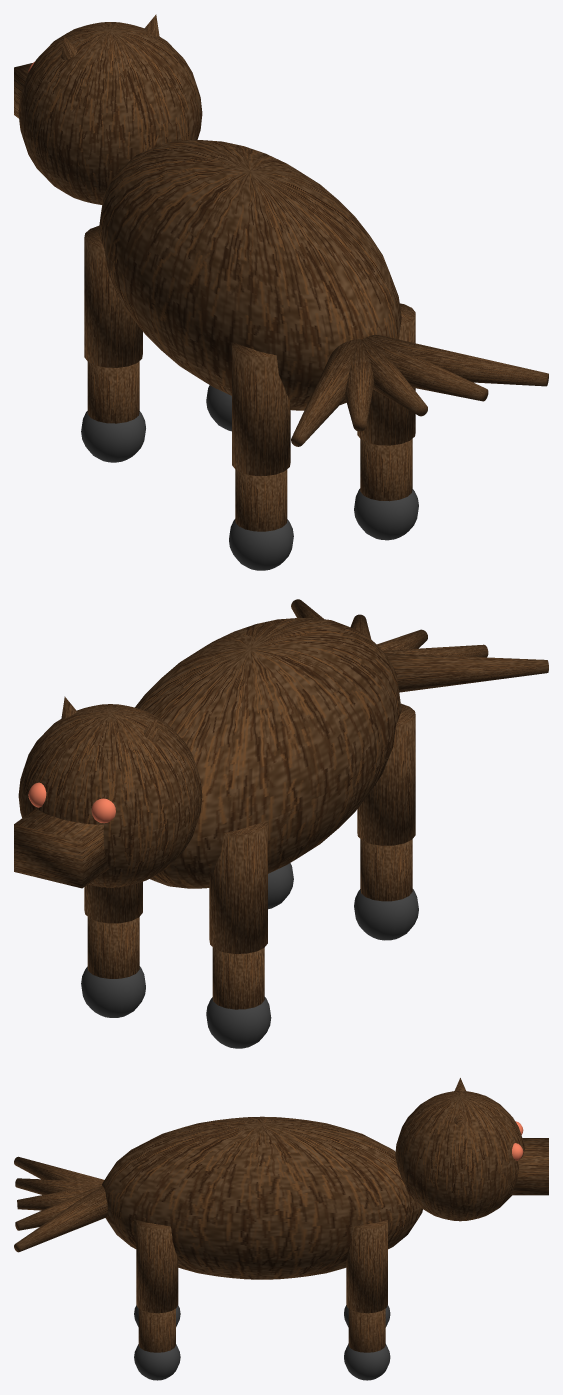
The model's file is kitsune.glb.
The picture shows the model from 3 angles, top to bottom: view 1: azimuth 30°, elevation 25°; view 2: azimuth 150°, elevation 25°; view 3: azimuth 270°, elevation 25°; orthographic projection. The views are drawn at different scales.
Visible parts, largest first — view 1: Body, Head, LegUpper, LegUpper.001, Tail.004, LegLower.001, LegLower, LegLower.002, LegUpper.002, Tail, Tail.003, Paw (+5 smaller); view 2: Body, Head, LegUpper.001, Snout, LegUpper, Tail, LegLower, LegLower.001, LegLower.003, Paw.001, Paw, Paw.003 (+4 smaller); view 3: Body, Head, LegUpper.002, LegUpper.003, Tail.004, Snout, LegLower.003, LegLower.002, Paw.003, Paw.002, Tail, Tail.001 (+2 smaller).
Boxes of the visible parts, x1,y1,x2,y2 form: Body: (98, 139, 401, 410); Head: (18, 22, 202, 204); LegUpper: (232, 342, 290, 475); LegUpper.001: (84, 226, 142, 367); Tail.004: (366, 334, 548, 386); LegLower.001: (87, 361, 139, 423); LegLower: (235, 469, 287, 531); LegLower.002: (360, 439, 412, 501); LegUpper.002: (357, 303, 415, 445); Tail: (291, 339, 358, 446); Tail.003: (364, 337, 488, 401); Paw: (229, 519, 293, 570); Body: (135, 617, 401, 888); Head: (18, 704, 202, 887); LegUpper.001: (209, 820, 267, 953); Snout: (14, 808, 109, 888); LegUpper: (357, 703, 415, 845); Tail: (385, 653, 548, 692); LegLower: (360, 839, 412, 901); LegLower.001: (212, 947, 264, 1009); LegLower.003: (87, 917, 139, 978); Paw.001: (206, 997, 271, 1048); Paw: (354, 889, 418, 940); Paw.003: (81, 966, 145, 1017); Body: (102, 1116, 422, 1279); Head: (395, 1090, 524, 1221); LegUpper.002: (136, 1220, 178, 1313); LegUpper.003: (346, 1220, 387, 1313); Tail.004: (14, 1186, 107, 1252); Snout: (511, 1138, 548, 1195); LegLower.003: (348, 1308, 385, 1352); LegLower.002: (138, 1308, 175, 1352); Paw.003: (344, 1343, 390, 1380); Paw.002: (134, 1344, 180, 1380); Tail: (14, 1156, 104, 1183); Tail.001: (15, 1178, 102, 1194).
Size of the model in its own units: 0.7171 by 0.986 by 1.81.
3 materials, 1 textured.
